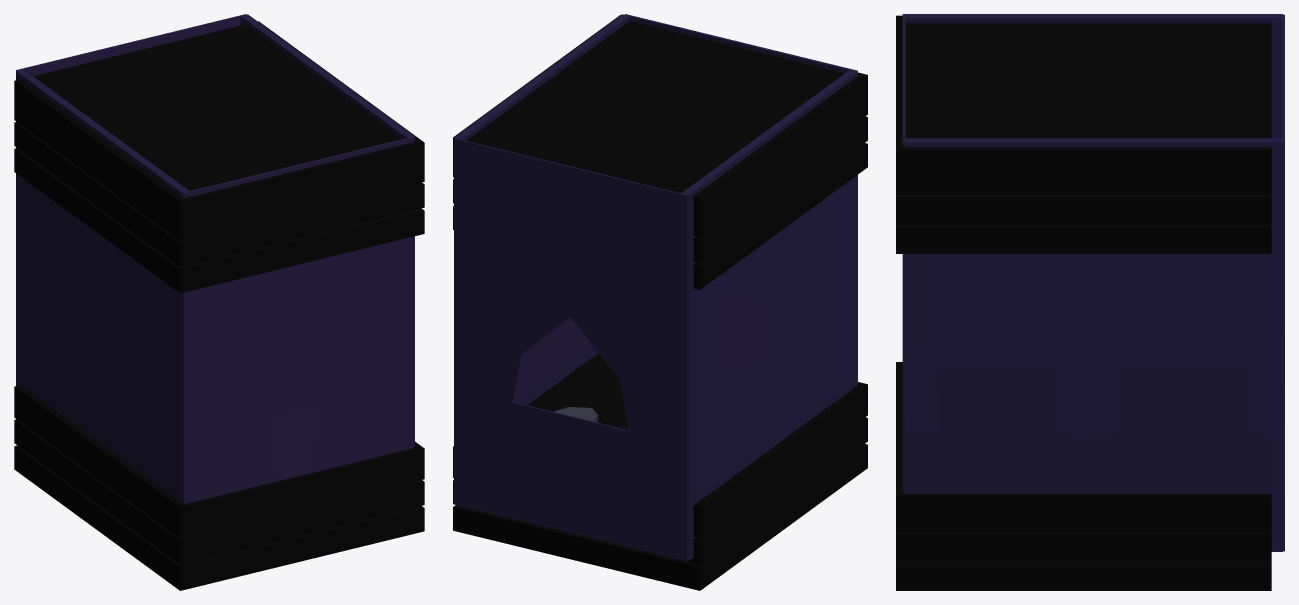
The model's file is mother_interior.fbx.
3 views of the same model, side by side, from view 1: azimuth 30°, elevation 25°; view 2: azimuth 150°, elevation 25°; view 3: azimuth 270°, elevation 25° (orthographic). The views are drawn at different scales.
Visible parts, largest first — view 1: pCube31; view 2: pCube31; view 3: pCube31.
Boxes of the visible parts, left/top/right/bottom form: pCube31: left=14, top=14, right=424, bottom=590; pCube31: left=453, top=14, right=867, bottom=590; pCube31: left=896, top=14, right=1284, bottom=590.
Size of the model in its own units: 19.93 by 30.68 by 24.26.
